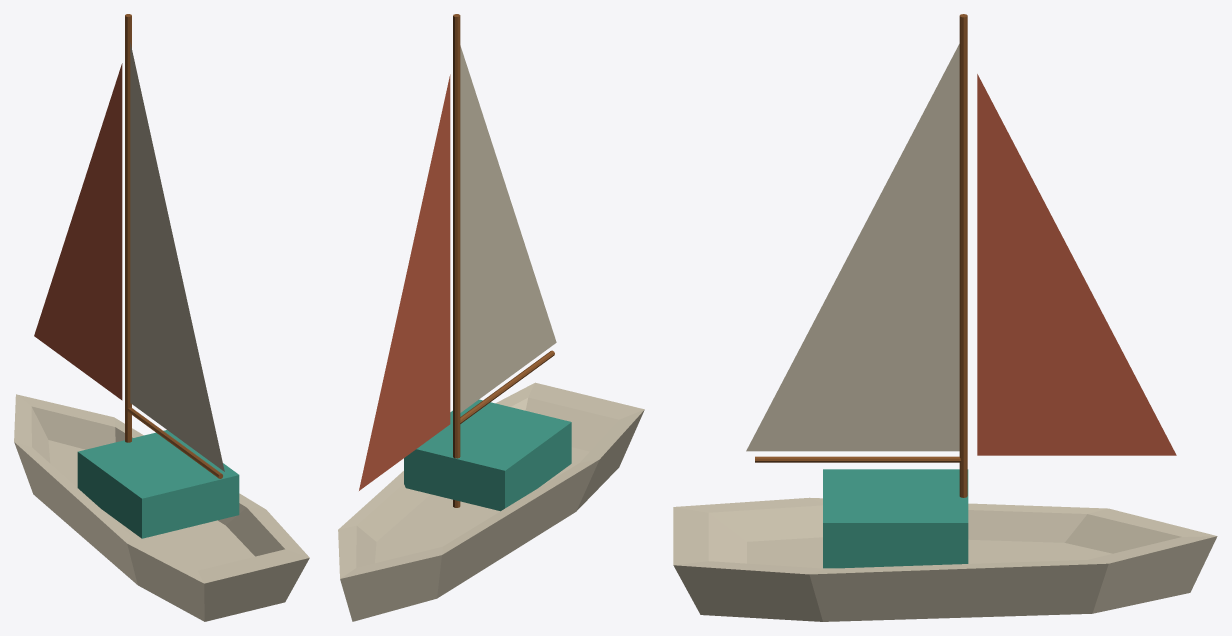
Rendered from sailboat.glb.
3 views of the same model, side by side, from view 1: azimuth 30°, elevation 25°; view 2: azimuth 150°, elevation 25°; view 3: azimuth 270°, elevation 25° (orthographic). The views are drawn at different scales.
Visible parts, largest first — view 1: sailboat_pc; view 2: sailboat_pc; view 3: sailboat_pc.
Boxes of the visible parts, left/top/right/bottom form: sailboat_pc: left=14, top=14, right=309, bottom=621; sailboat_pc: left=338, top=14, right=644, bottom=621; sailboat_pc: left=673, top=14, right=1217, bottom=621.
Bounding box in the file's own units: 2 × 7.02 × 6.
